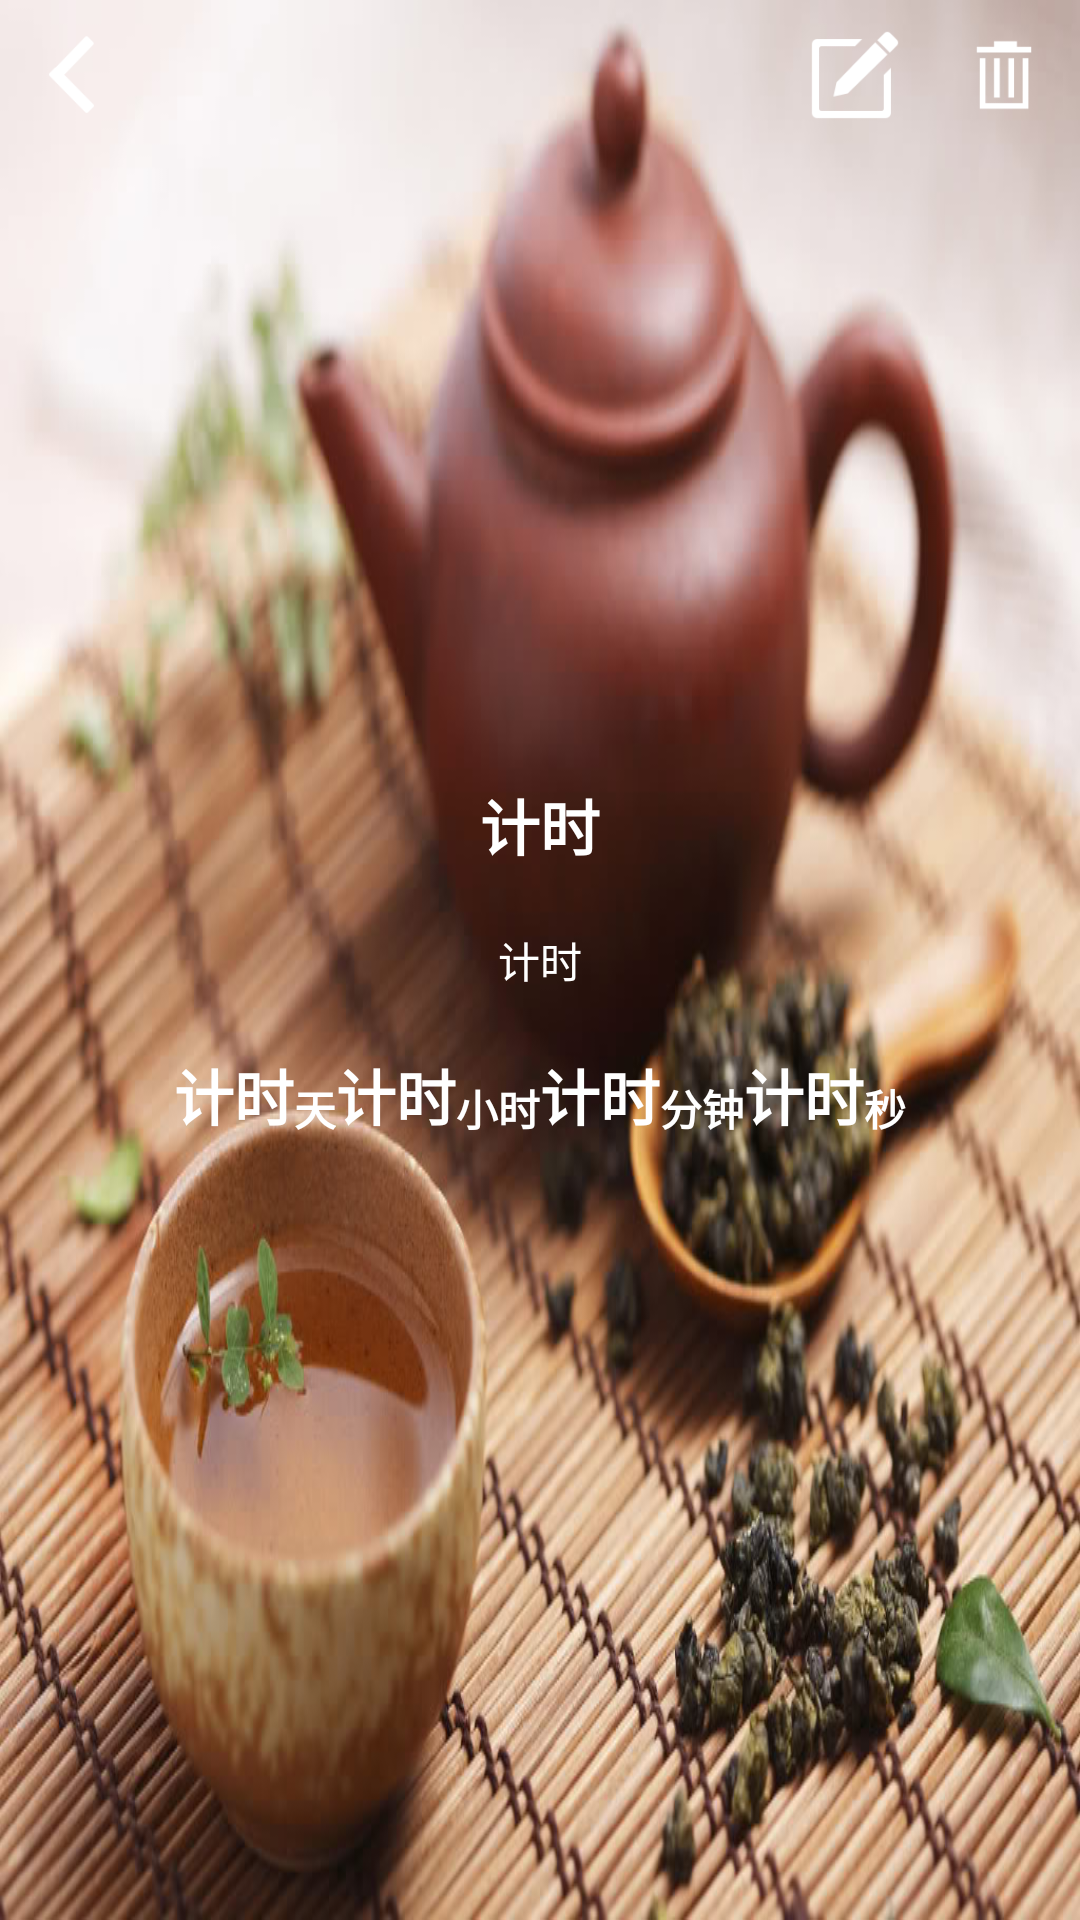

Where icons sit on this 1080px×1920px app screen, as [x1=x1, y1=y1, x2=x2, y2=y2]:
delete: [x1=976, y1=0, x2=1080, y2=121]
edit: [x1=812, y1=32, x2=898, y2=118]
